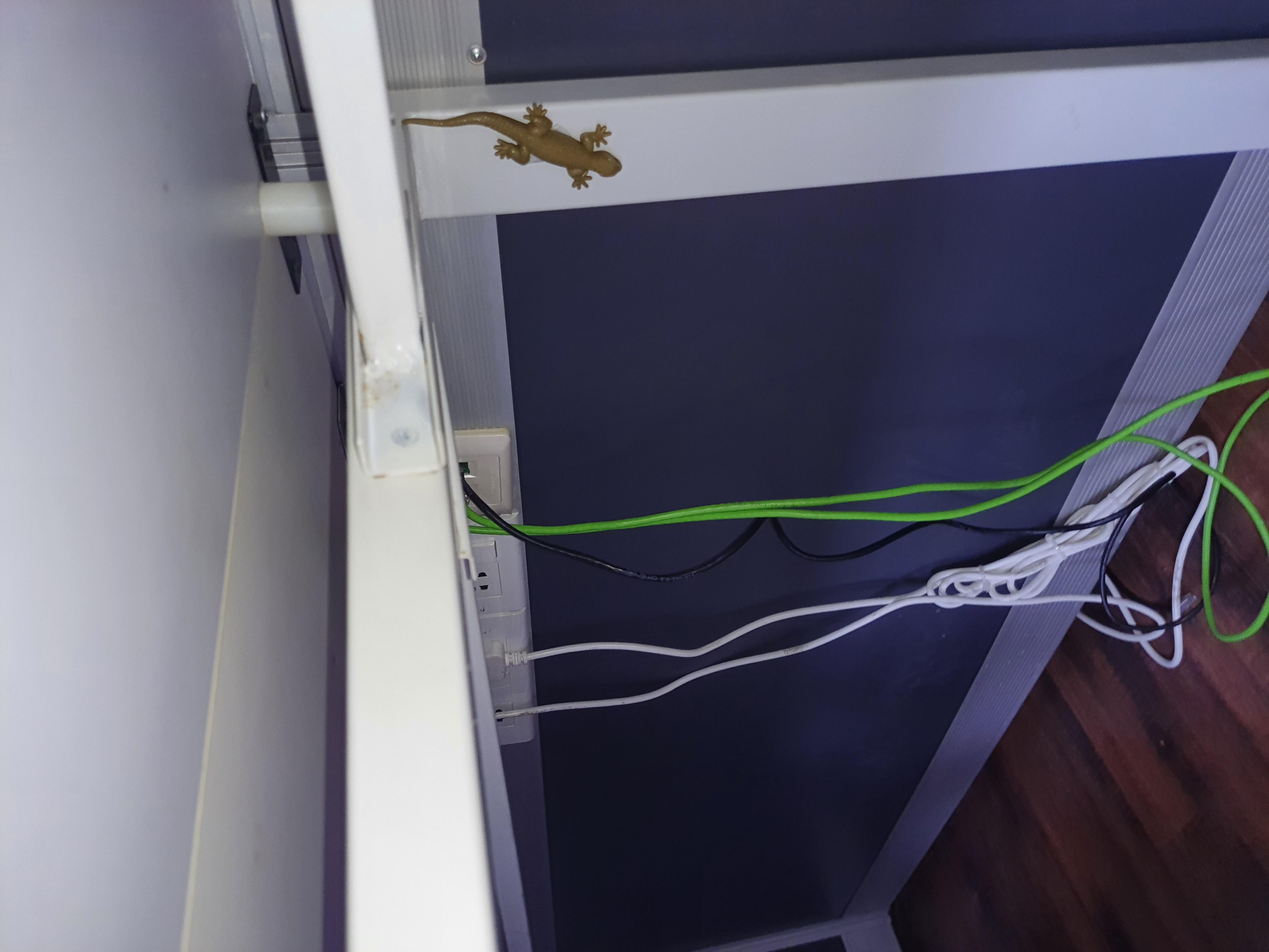lizard: (996, 297, 1133, 471)
